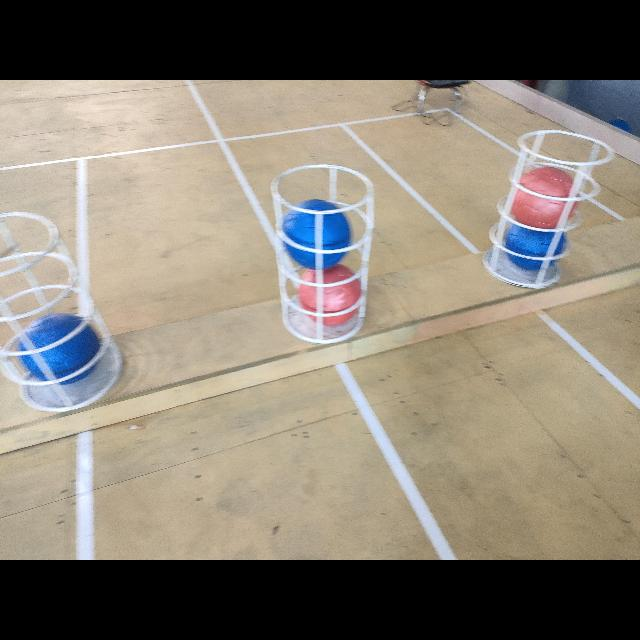B: (17, 312, 103, 386), (282, 200, 352, 270), (504, 222, 566, 270)
R: (512, 167, 576, 230), (300, 262, 362, 326)
